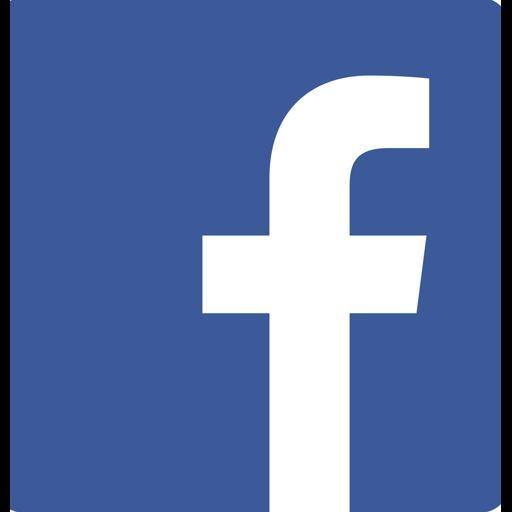Facebook: (10, 0, 501, 512)
